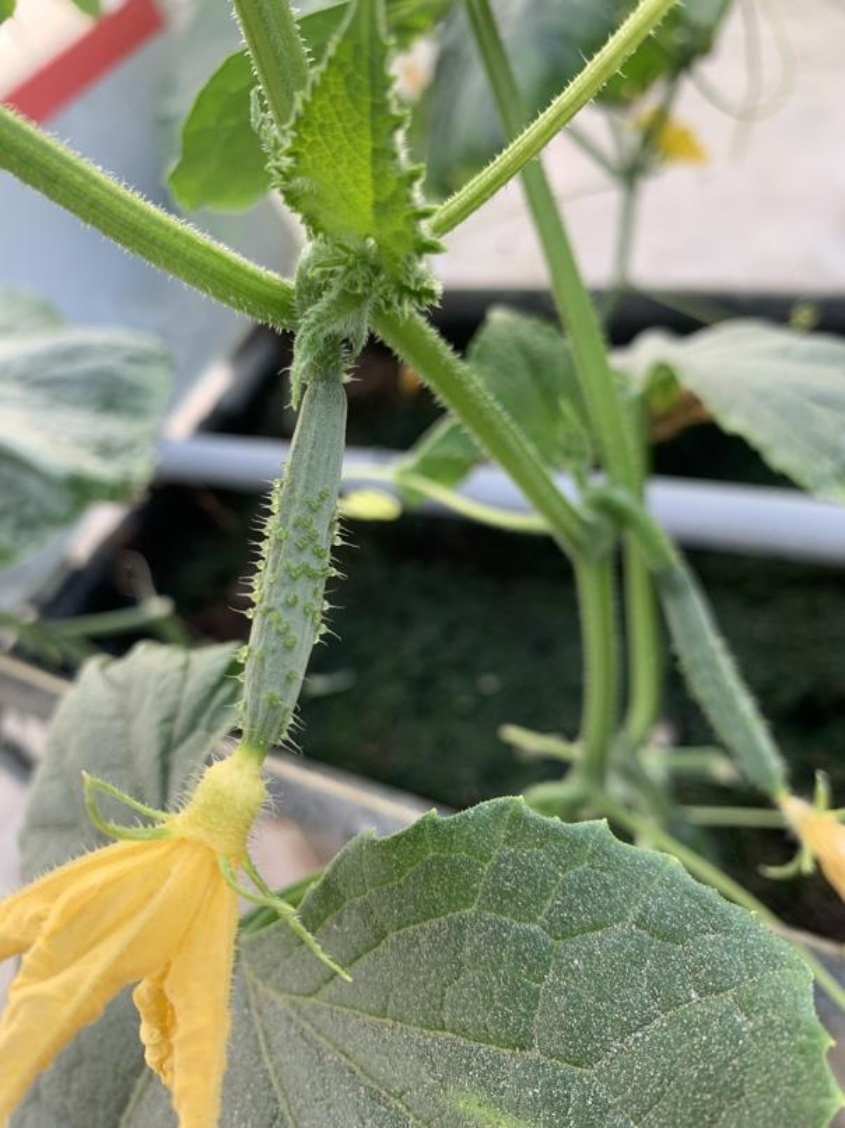bear: (0, 312, 444, 1068)
